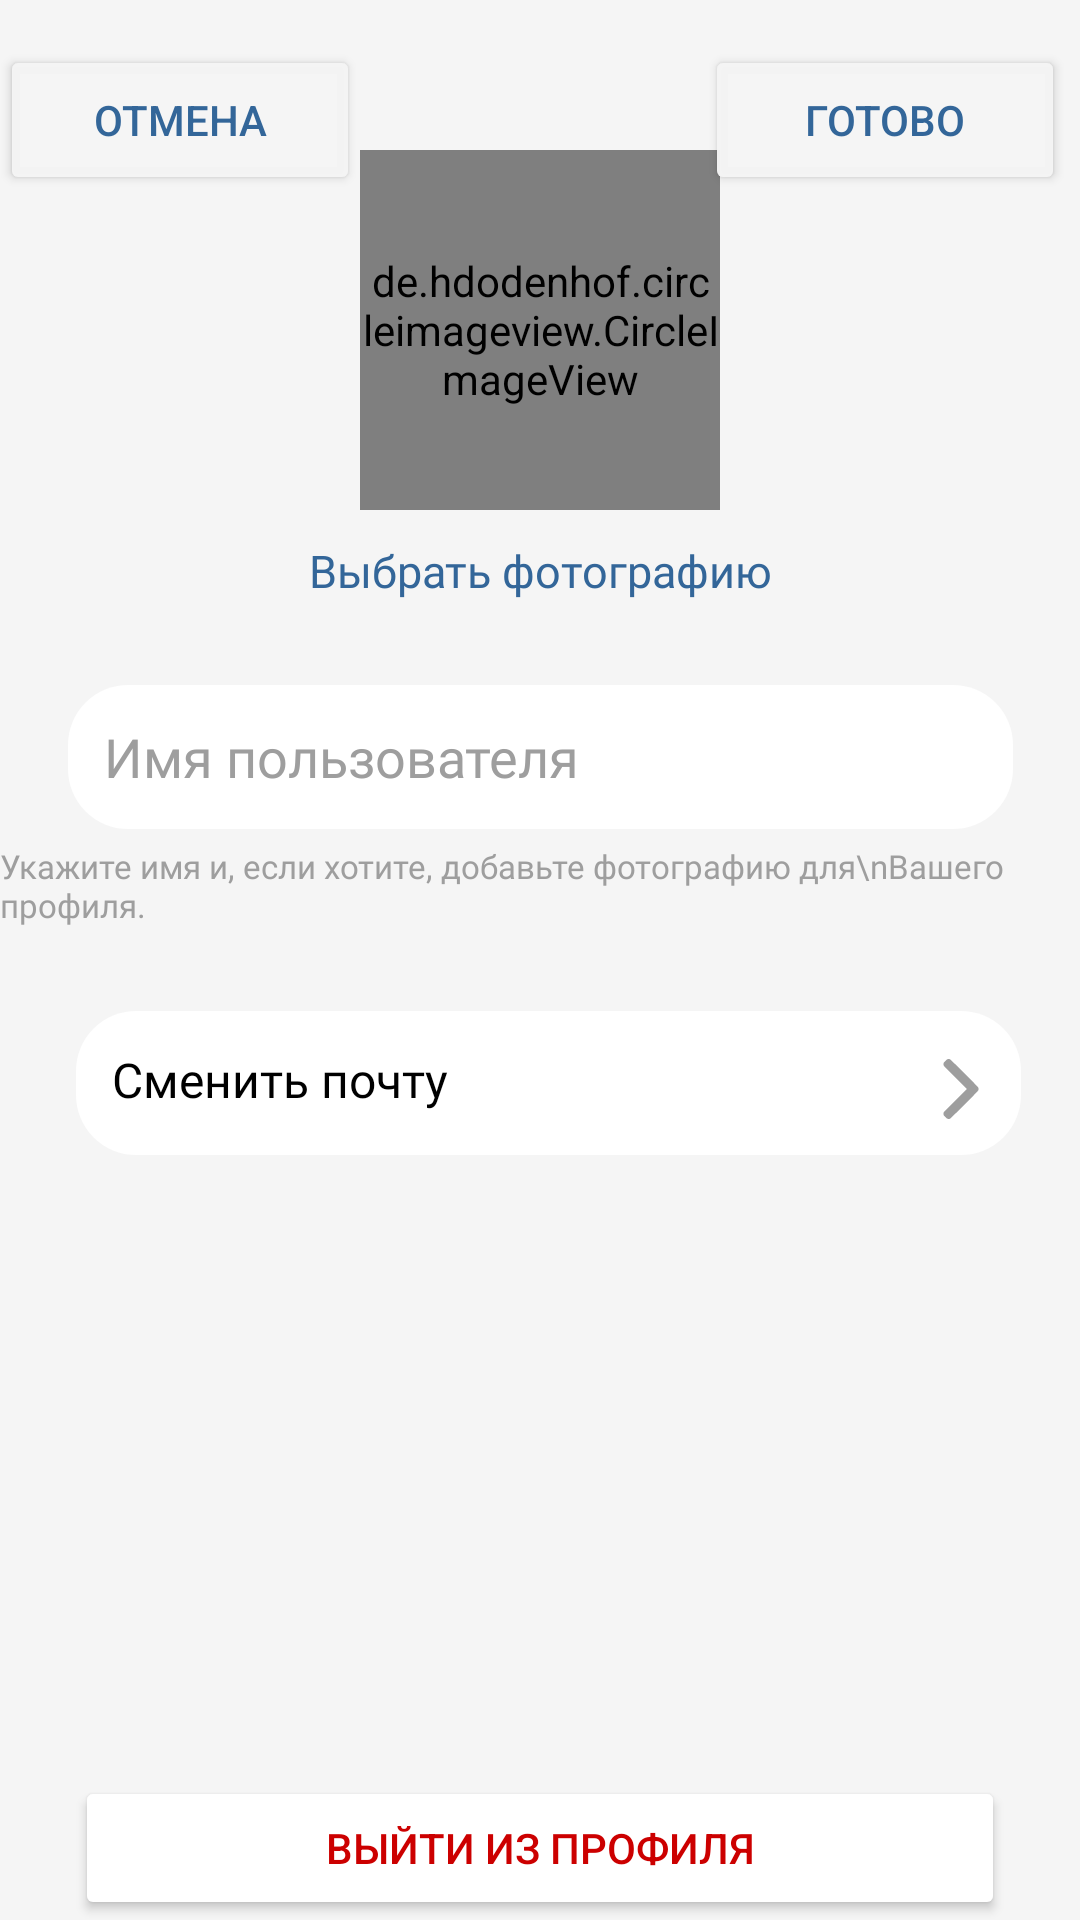

Icon click points for this 1080px×1920px phone screenshot, format (x,y):
right arrow: (961,1089)
